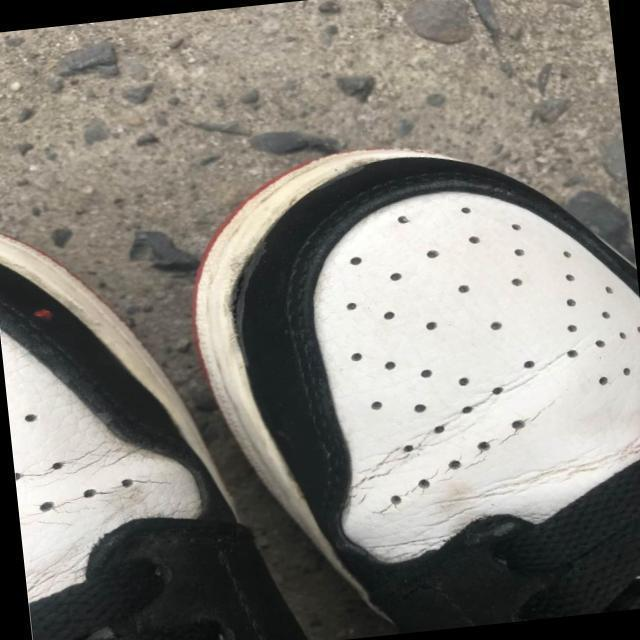nike original jordan 1: (176, 120, 640, 640)
